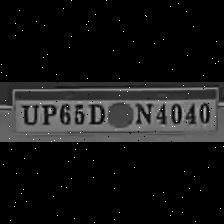0: (166, 100, 182, 124), (195, 100, 211, 124)
4: (153, 98, 166, 126), (183, 100, 197, 124)
6: (58, 101, 74, 125)
D: (84, 100, 107, 124)
N: (132, 98, 154, 125)
P: (38, 102, 56, 126)
U: (16, 101, 40, 126)
